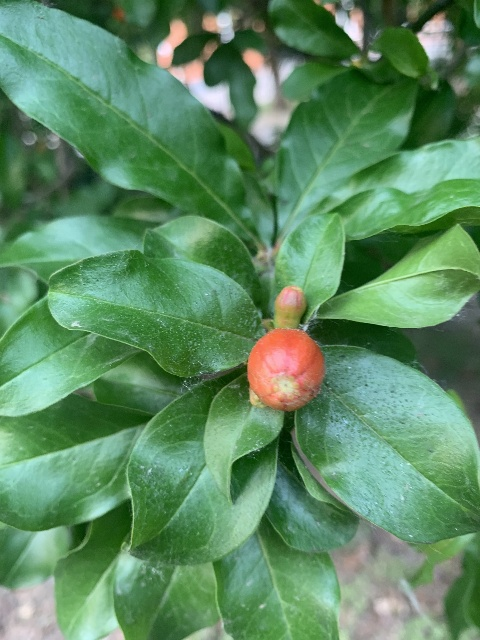bud: (247, 327, 324, 412), (272, 283, 307, 330)
